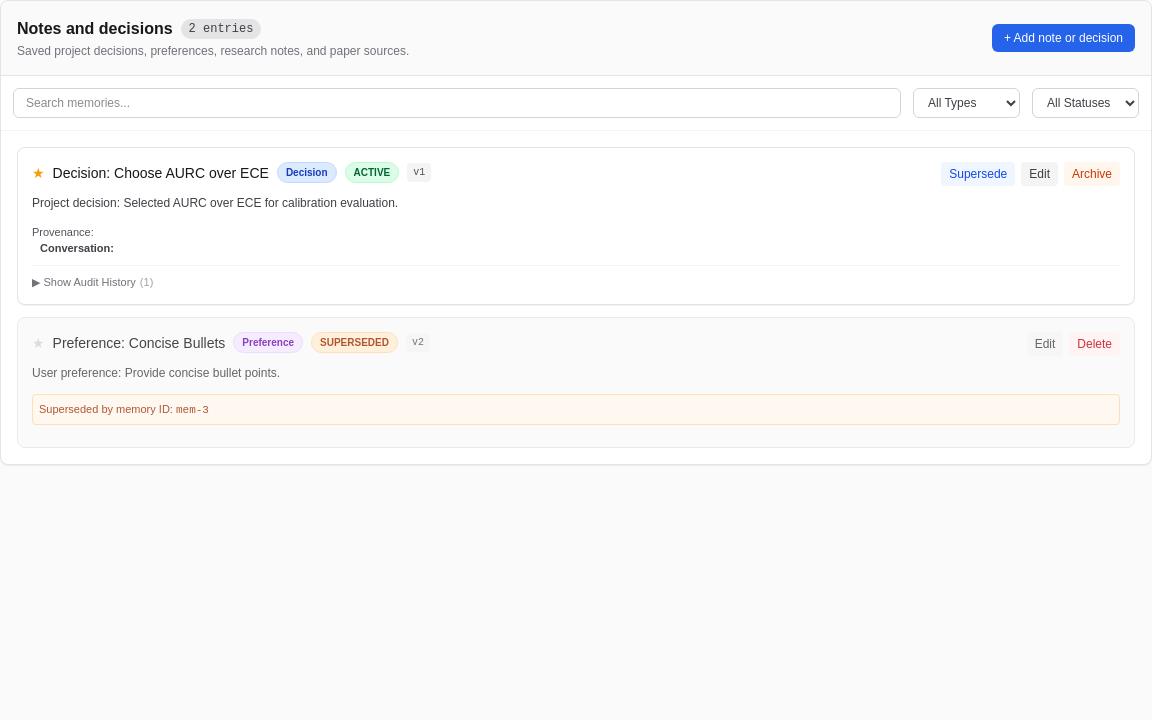
Scenario: MemoryInspector Component › expands and collapses audit history
The width and height of the screenshot is (1152, 720).
Expected: the heading "Decision: Choose AURC over ECE" is shown, [53, 162, 269, 182]
Click the button "▶ Show Audit History (1)" at {"x": 93, "y": 282}, box [32, 274, 153, 290]
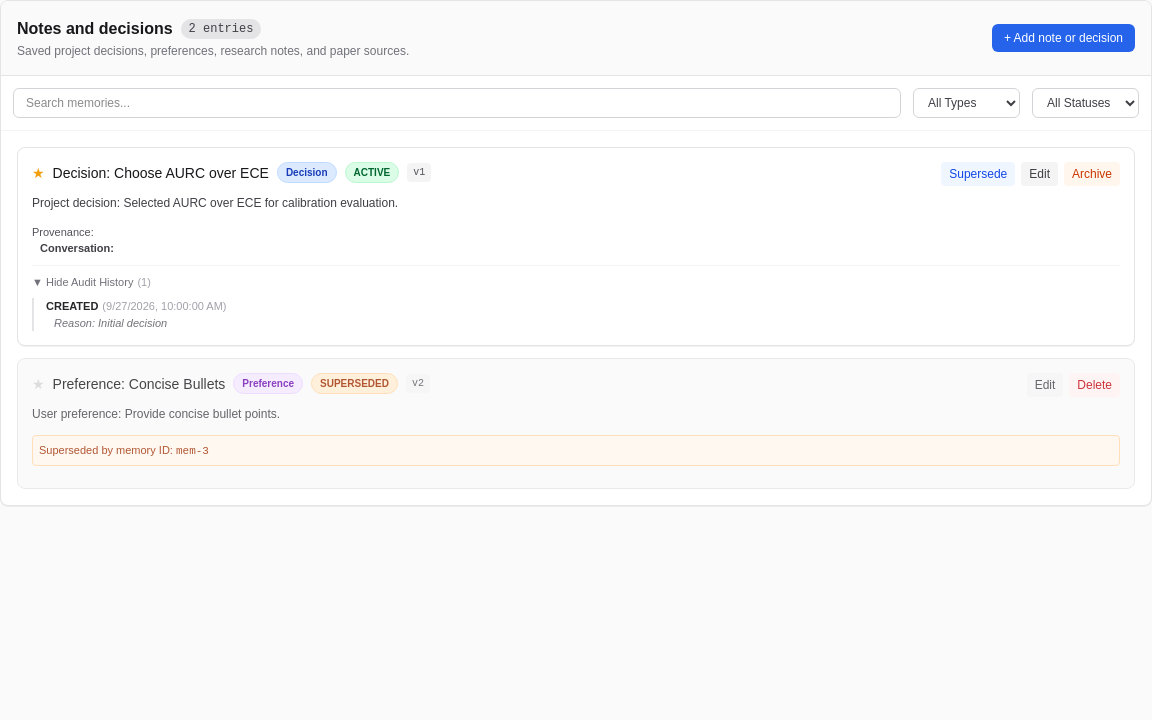
Expected: the text "CREATED" is shown, [46, 300, 98, 312]
Expected: the text "Reason: Initial decision" is shown, [54, 316, 167, 328]
Click the button "▼ Hide Audit History (1)" at {"x": 91, "y": 282}, box [32, 274, 151, 290]
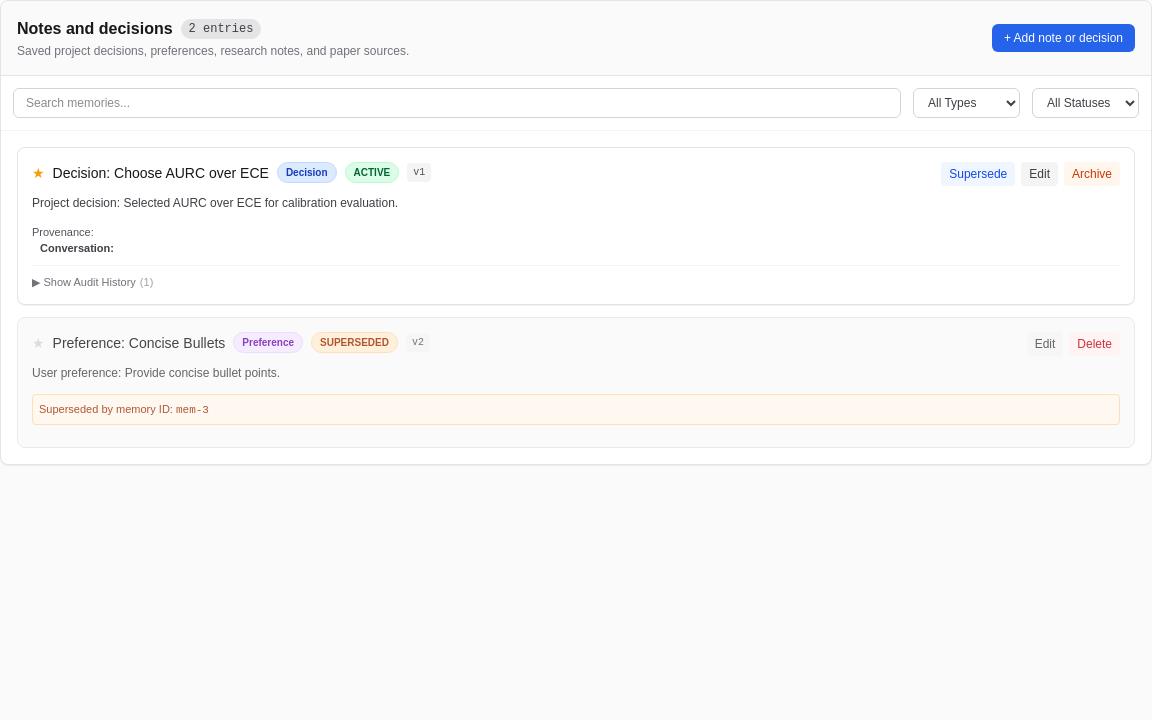
Expected: the text "Reason: Initial decision" is gone
